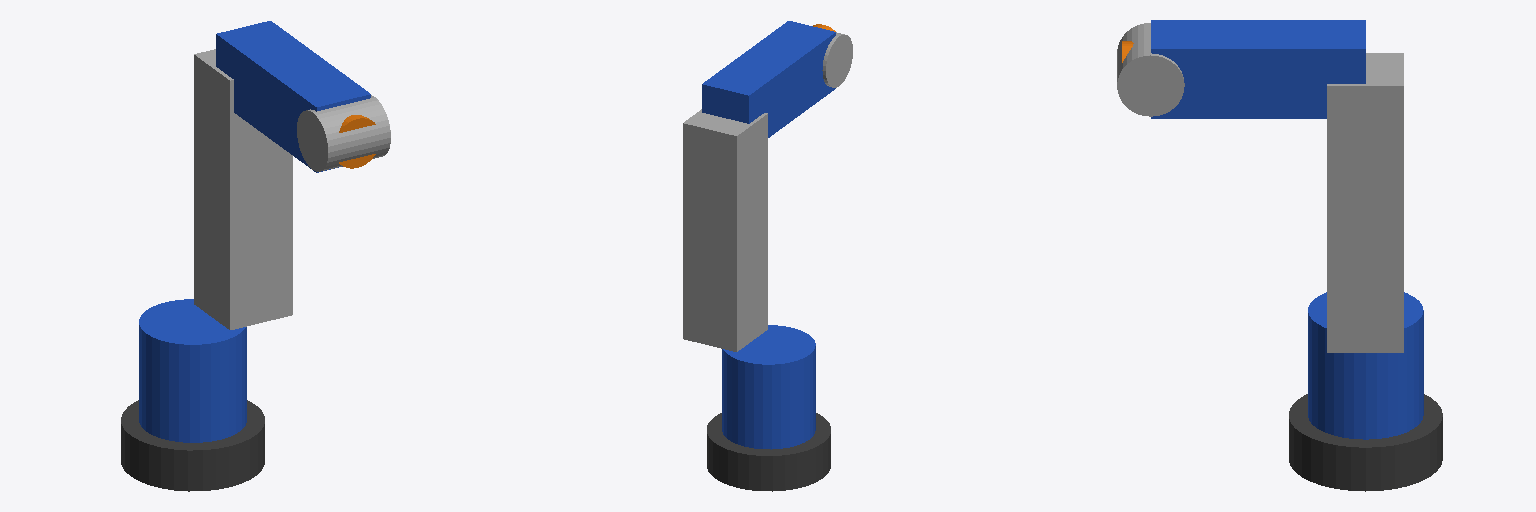
robot.urdf — picker_v2:
<?xml version="1.0" encoding="UTF-8"?>
<!--
  Picker Robot V2 URDF
  基于 AR4 v5.1 固件 DH 参数生成
  
  DH 参数 (Modified DH / Craig Convention):
    Link 1: alpha=0,    a=0,     d=169.77, theta_offset=0
    Link 2: alpha=-90,  a=64.2,  d=0,      theta_offset=-90
    Link 3: alpha=0,    a=305,   d=0,      theta_offset=0
    Link 4: alpha=-90,  a=0,     d=222.63, theta_offset=0
    Link 5: alpha=90,   a=0,     d=0,      theta_offset=0
    Link 6: alpha=-90,  a=0,     d=41,     theta_offset=180
    
  单位: 米 (m), 弧度 (rad)
  注意: URDF 使用标准 DH 约定的 joint origin 表示，
        这里将 Modified DH 转换为 URDF 的 parent-to-child transform。
-->
<robot name="picker_v2">

  <!-- ==================== Materials ==================== -->
  <material name="dark_grey">
    <color rgba="0.3 0.3 0.3 1.0"/>
  </material>
  <material name="light_grey">
    <color rgba="0.7 0.7 0.7 1.0"/>
  </material>
  <material name="blue">
    <color rgba="0.2 0.4 0.8 1.0"/>
  </material>
  <material name="orange">
    <color rgba="0.9 0.5 0.1 1.0"/>
  </material>

  <!-- ==================== Base Link ==================== -->
  <link name="base_link">
    <visual>
      <geometry>
        <cylinder radius="0.08" length="0.05"/>
      </geometry>
      <origin xyz="0 0 0.025" rpy="0 0 0"/>
      <material name="dark_grey"/>
    </visual>
    <collision>
      <geometry>
        <cylinder radius="0.08" length="0.05"/>
      </geometry>
      <origin xyz="0 0 0.025" rpy="0 0 0"/>
    </collision>
    <inertial>
      <mass value="2.0"/>
      <origin xyz="0 0 0.025" rpy="0 0 0"/>
      <inertia ixx="0.003" ixy="0" ixz="0" iyy="0.003" iyz="0" izz="0.005"/>
    </inertial>
  </link>

  <!-- ==================== Link 1 (旋转底座) ==================== -->
  <!-- Joint 1: 绕 Z 轴旋转, 从 base 到 link1, 高度 d1=169.77mm -->
  <joint name="joint_1" type="revolute">
    <parent link="base_link"/>
    <child link="link_1"/>
    <origin xyz="0 0 0.16977" rpy="0 0 0"/>
    <axis xyz="0 0 1"/>
    <limit lower="-2.8449" upper="2.8449" effort="50" velocity="1.5"/>
    <!-- ±163° -->
  </joint>

  <link name="link_1">
    <visual>
      <geometry>
        <cylinder radius="0.06" length="0.12"/>
      </geometry>
      <origin xyz="0 0 -0.06" rpy="0 0 0"/>
      <material name="blue"/>
    </visual>
    <collision>
      <geometry>
        <cylinder radius="0.06" length="0.12"/>
      </geometry>
      <origin xyz="0 0 -0.06" rpy="0 0 0"/>
    </collision>
    <inertial>
      <mass value="1.5"/>
      <origin xyz="0 0 -0.06" rpy="0 0 0"/>
      <inertia ixx="0.002" ixy="0" ixz="0" iyy="0.002" iyz="0" izz="0.002"/>
    </inertial>
  </link>

  <!-- ==================== Link 2 (肩部) ==================== -->
  <!-- Joint 2: alpha=-90°旋转 X, 偏移 a2=64.2mm, theta_offset=-90° -->
  <joint name="joint_2" type="revolute">
    <parent link="link_1"/>
    <child link="link_2"/>
    <origin xyz="0.0642 0 0" rpy="-1.5708 -1.5708 0"/>
    <axis xyz="0 0 1"/>
    <limit lower="-1.0472" upper="1.5708" effort="80" velocity="1.5"/>
    <!-- -60° to 90° -->
  </joint>

  <link name="link_2">
    <visual>
      <geometry>
        <box size="0.305 0.08 0.08"/>
      </geometry>
      <origin xyz="0.1525 0 0" rpy="0 0 0"/>
      <material name="light_grey"/>
    </visual>
    <collision>
      <geometry>
        <box size="0.305 0.08 0.08"/>
      </geometry>
      <origin xyz="0.1525 0 0" rpy="0 0 0"/>
    </collision>
    <inertial>
      <mass value="1.2"/>
      <origin xyz="0.1525 0 0" rpy="0 0 0"/>
      <inertia ixx="0.001" ixy="0" ixz="0" iyy="0.01" iyz="0" izz="0.01"/>
    </inertial>
  </link>

  <!-- ==================== Link 3 (大臂) ==================== -->
  <!-- Joint 3: alpha=0, a3=305mm -->
  <joint name="joint_3" type="revolute">
    <parent link="link_2"/>
    <child link="link_3"/>
    <origin xyz="0.305 0 0" rpy="0 0 0"/>
    <axis xyz="0 0 1"/>
    <limit lower="-1.5708" upper="1.4835" effort="60" velocity="1.5"/>
    <!-- -90° to 85° -->
  </joint>

  <link name="link_3">
    <visual>
      <geometry>
        <box size="0.08 0.07 0.22263"/>
      </geometry>
      <origin xyz="0 0 -0.111315" rpy="0 0 0"/>
      <material name="blue"/>
    </visual>
    <collision>
      <geometry>
        <box size="0.08 0.07 0.22263"/>
      </geometry>
      <origin xyz="0 0 -0.111315" rpy="0 0 0"/>
    </collision>
    <inertial>
      <mass value="0.8"/>
      <origin xyz="0 0 -0.111315" rpy="0 0 0"/>
      <inertia ixx="0.004" ixy="0" ixz="0" iyy="0.004" iyz="0" izz="0.001"/>
    </inertial>
  </link>

  <!-- ==================== Link 4 (前臂/腕部1) ==================== -->
  <!-- Joint 4: alpha=-90°, d4=222.63mm -->
  <joint name="joint_4" type="revolute">
    <parent link="link_3"/>
    <child link="link_4"/>
    <origin xyz="0 0 -0.22263" rpy="-1.5708 0 0"/>
    <axis xyz="0 0 1"/>
    <limit lower="-3.0195" upper="3.0195" effort="30" velocity="2.0"/>
    <!-- ±173° -->
  </joint>

  <link name="link_4">
    <visual>
      <geometry>
        <cylinder radius="0.035" length="0.08"/>
      </geometry>
      <origin xyz="0 0 0" rpy="0 0 0"/>
      <material name="light_grey"/>
    </visual>
    <collision>
      <geometry>
        <cylinder radius="0.035" length="0.08"/>
      </geometry>
      <origin xyz="0 0 0" rpy="0 0 0"/>
    </collision>
    <inertial>
      <mass value="0.5"/>
      <origin xyz="0 0 0" rpy="0 0 0"/>
      <inertia ixx="0.0005" ixy="0" ixz="0" iyy="0.0005" iyz="0" izz="0.0003"/>
    </inertial>
  </link>

  <!-- ==================== Link 5 (腕部2) ==================== -->
  <!-- Joint 5: alpha=90° -->
  <joint name="joint_5" type="revolute">
    <parent link="link_4"/>
    <child link="link_5"/>
    <origin xyz="0 0 0" rpy="1.5708 0 0"/>
    <axis xyz="0 0 1"/>
    <limit lower="-1.8850" upper="1.8850" effort="20" velocity="2.0"/>
    <!-- ±108° -->
  </joint>

  <link name="link_5">
    <visual>
      <geometry>
        <cylinder radius="0.03" length="0.06"/>
      </geometry>
      <origin xyz="0 0 0" rpy="0 0 0"/>
      <material name="orange"/>
    </visual>
    <collision>
      <geometry>
        <cylinder radius="0.03" length="0.06"/>
      </geometry>
      <origin xyz="0 0 0" rpy="0 0 0"/>
    </collision>
    <inertial>
      <mass value="0.3"/>
      <origin xyz="0 0 0" rpy="0 0 0"/>
      <inertia ixx="0.0002" ixy="0" ixz="0" iyy="0.0002" iyz="0" izz="0.0001"/>
    </inertial>
  </link>

  <!-- ==================== Link 6 (末端法兰) ==================== -->
  <!-- Joint 6: alpha=-90°, d6=41mm -->
  <joint name="joint_6" type="revolute">
    <parent link="link_5"/>
    <child link="link_6"/>
    <origin xyz="0 0 0.041" rpy="-1.5708 3.1416 0"/>
    <axis xyz="0 0 1"/>
    <limit lower="-3.1416" upper="3.1416" effort="10" velocity="3.0"/>
    <!-- ±180° -->
  </joint>

  <link name="link_6">
    <visual>
      <geometry>
        <cylinder radius="0.025" length="0.02"/>
      </geometry>
      <origin xyz="0 0 0.01" rpy="0 0 0"/>
      <material name="orange"/>
    </visual>
    <collision>
      <geometry>
        <cylinder radius="0.025" length="0.02"/>
      </geometry>
      <origin xyz="0 0 0.01" rpy="0 0 0"/>
    </collision>
    <inertial>
      <mass value="0.1"/>
      <origin xyz="0 0 0.01" rpy="0 0 0"/>
      <inertia ixx="0.00003" ixy="0" ixz="0" iyy="0.00003" iyz="0" izz="0.00003"/>
    </inertial>
  </link>

  <!-- ==================== Tool (末端工具点) ==================== -->
  <joint name="tool_joint" type="fixed">
    <parent link="link_6"/>
    <child link="tool_link"/>
    <origin xyz="0 0 0.02" rpy="0 0 0"/>
  </joint>

  <link name="tool_link"/>

  <!-- ==================== Gazebo 插件 ==================== -->
  <gazebo>
    <plugin filename="gz-sim-joint-state-publisher-system"
            name="gz::sim::systems::JointStatePublisher"/>
    <plugin filename="gz-sim-joint-position-controller-system"
            name="gz::sim::systems::JointPositionController">
      <joint_name>joint_1</joint_name>
      <joint_name>joint_2</joint_name>
      <joint_name>joint_3</joint_name>
      <joint_name>joint_4</joint_name>
      <joint_name>joint_5</joint_name>
      <joint_name>joint_6</joint_name>
      <topic>joint_commands</topic>
    </plugin>
  </gazebo>

  <!-- 连杆颜色 (Gazebo Classic 兼容) -->
  <gazebo reference="base_link"><material>Gazebo/DarkGrey</material></gazebo>
  <gazebo reference="link_1"><material>Gazebo/Blue</material></gazebo>
  <gazebo reference="link_2"><material>Gazebo/Grey</material></gazebo>
  <gazebo reference="link_3"><material>Gazebo/Blue</material></gazebo>
  <gazebo reference="link_4"><material>Gazebo/Grey</material></gazebo>
  <gazebo reference="link_5"><material>Gazebo/Orange</material></gazebo>
  <gazebo reference="link_6"><material>Gazebo/Orange</material></gazebo>

</robot>

--- Render facts (derived) ---
Views: 3 orthographic renders of the robot side by side, from view 1: azimuth 30°, elevation 25°; view 2: azimuth 150°, elevation 25°; view 3: azimuth 270°, elevation 25°.
Model picker_v2 with 8 links and 7 joints (6 revolute, 1 fixed), rooted at base_link, posed every joint at zero.
Links seen in each view (by area): view 1: link_2, link_1, link_3, base_link, link_4, link_5; view 2: link_2, link_1, link_3, base_link, link_4; view 3: link_2, link_3, link_1, base_link, link_4.
Link boxes in pixels (box(x1,y1,x2,y2)): link_2: box(194, 49, 292, 329); link_1: box(139, 299, 246, 442); link_3: box(216, 21, 370, 172); base_link: box(121, 400, 264, 491); link_4: box(297, 95, 390, 171); link_5: box(339, 115, 375, 168); link_2: box(683, 109, 767, 351); link_1: box(722, 325, 815, 449); link_3: box(702, 21, 835, 137); base_link: box(707, 413, 830, 491); link_4: box(822, 32, 852, 87); link_2: box(1327, 53, 1403, 352); link_3: box(1151, 20, 1365, 118); link_1: box(1308, 292, 1423, 439); base_link: box(1289, 394, 1442, 491); link_4: box(1117, 23, 1184, 116).
Bounding box of the posed robot: 0.1842 × 0.3376 × 0.5148 m (x, y, z).
Geometry: primitives only (box / cylinder / sphere), no mesh files.
